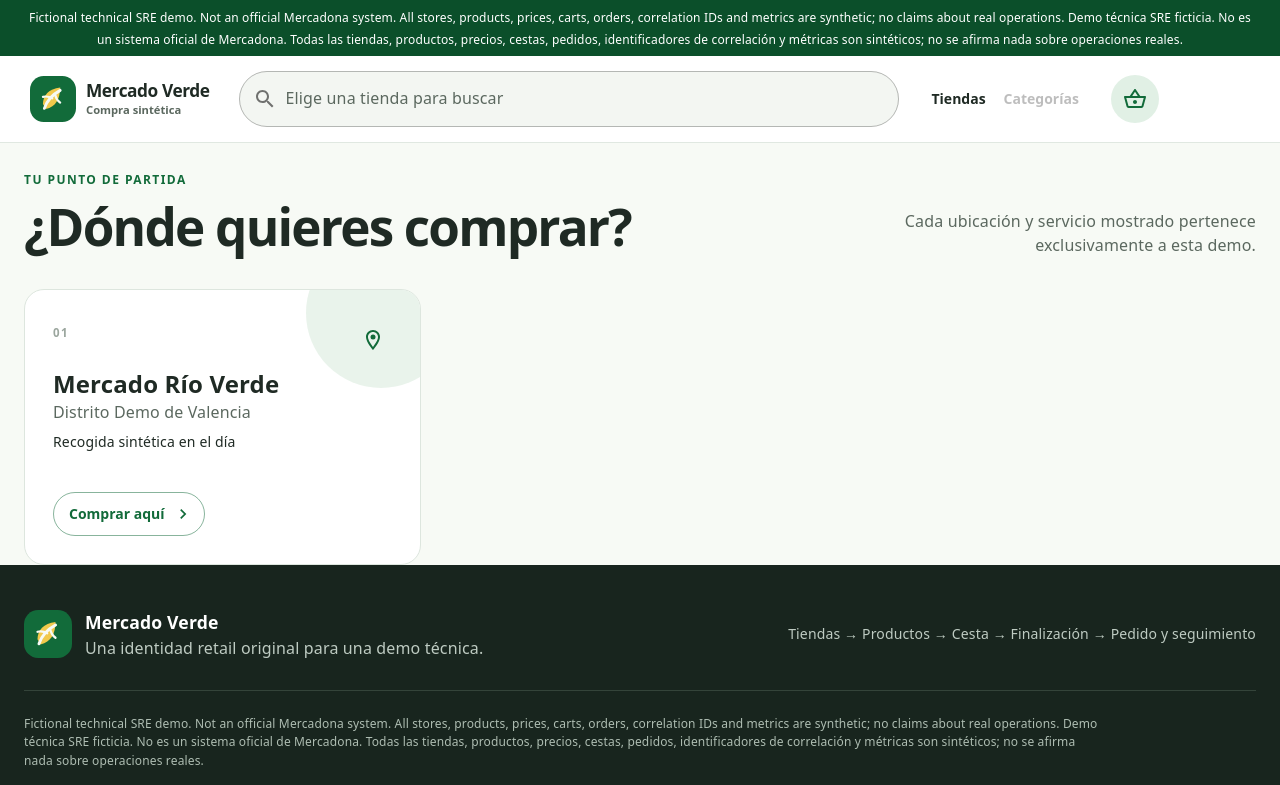
Test: shows a clear capacity error with its synthetic correlation ID
(page scrolled)
Click the button "Comprar aquí" at [129, 514], box [53,492,204,536]
(page scrolled)
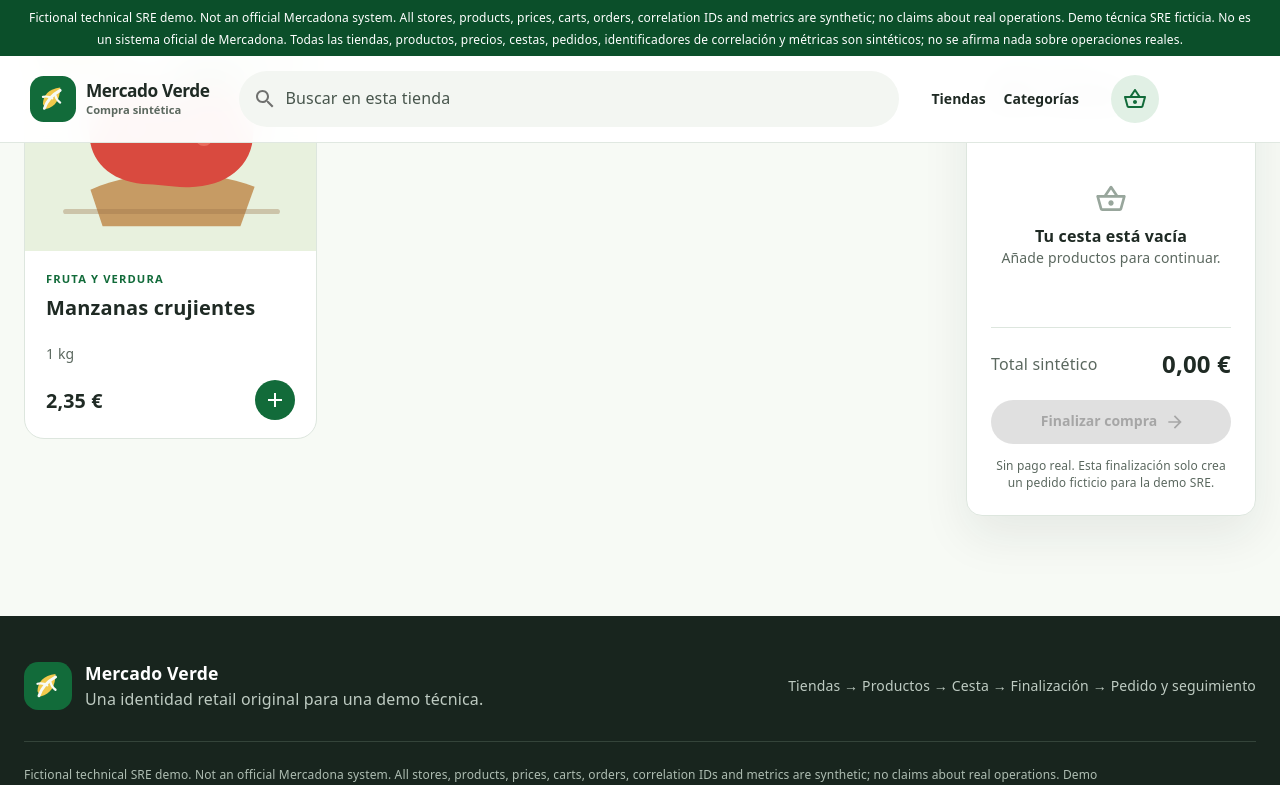
Click the button named "Añadir Manzanas crujientes al carrito" at [275, 400], box [255,380,295,420]
(page scrolled)
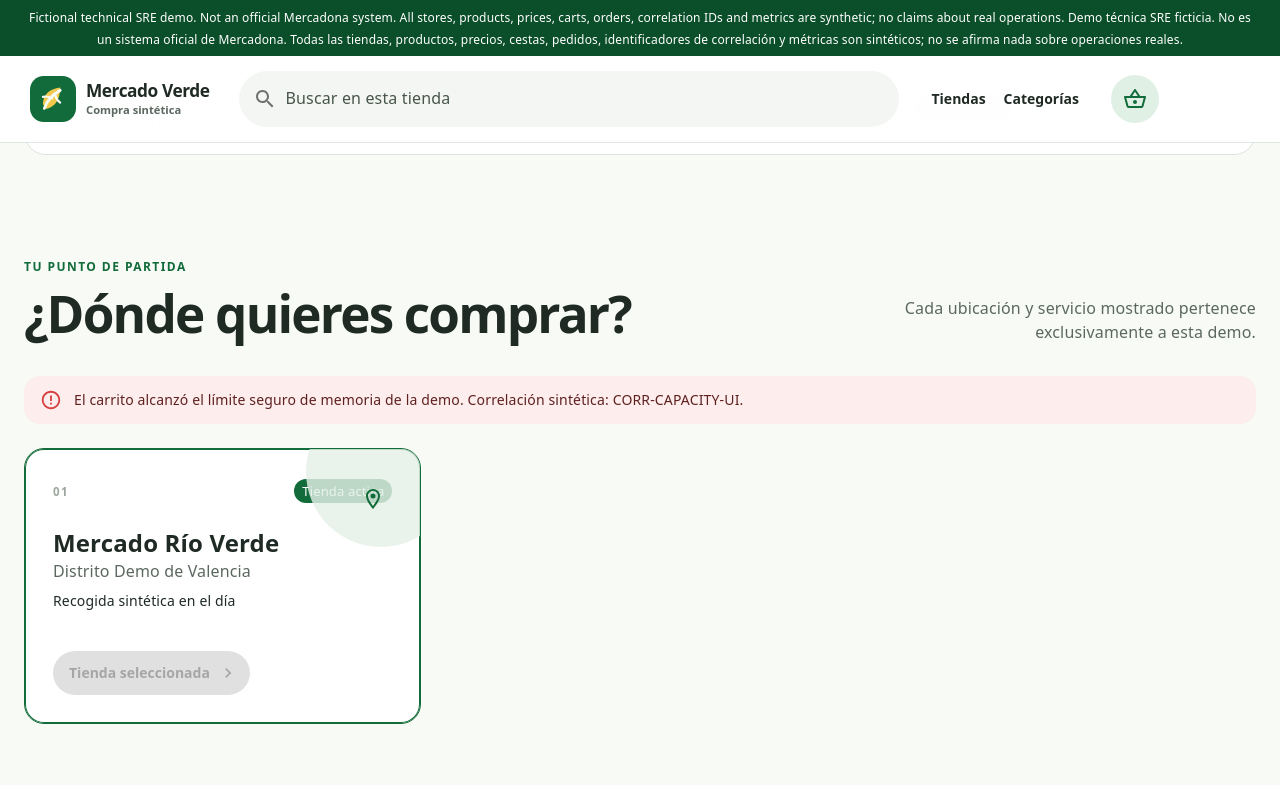
Expected: the text "CORR-CAPACITY-UI" is shown, [74,390,743,409]
